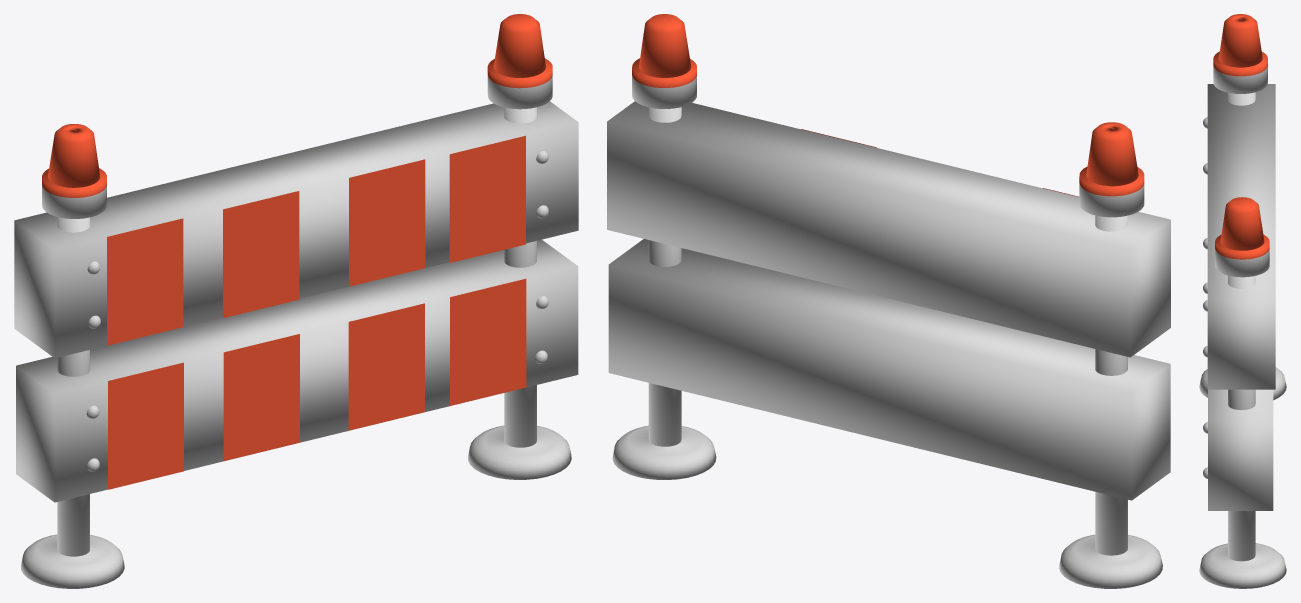
The model's file is roadbarrier.dae.
3 views of the same model, side by side, from view 1: azimuth 30°, elevation 25°; view 2: azimuth 150°, elevation 25°; view 3: azimuth 270°, elevation 25° (orthographic). The views are drawn at different scales.
Parts seen in each view (by area): view 1: Cylinder; view 2: Cylinder; view 3: Cylinder.
Part boxes in pixels (<box>): Cylinder: <box>14,14,578,588</box>; Cylinder: <box>607,14,1170,588</box>; Cylinder: <box>1199,14,1286,588</box>.
Bounding box in the file's own units: 1.27 × 0.2137 × 0.9949.
